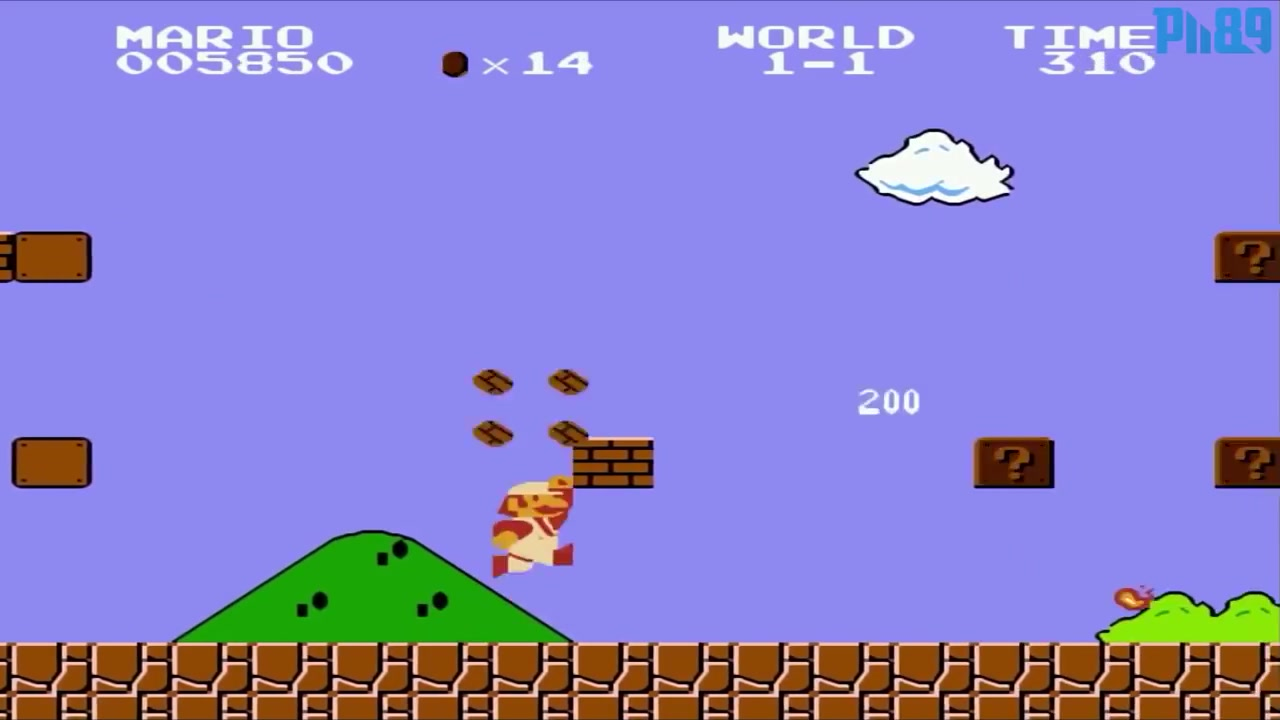mario: (487, 471, 583, 585)
